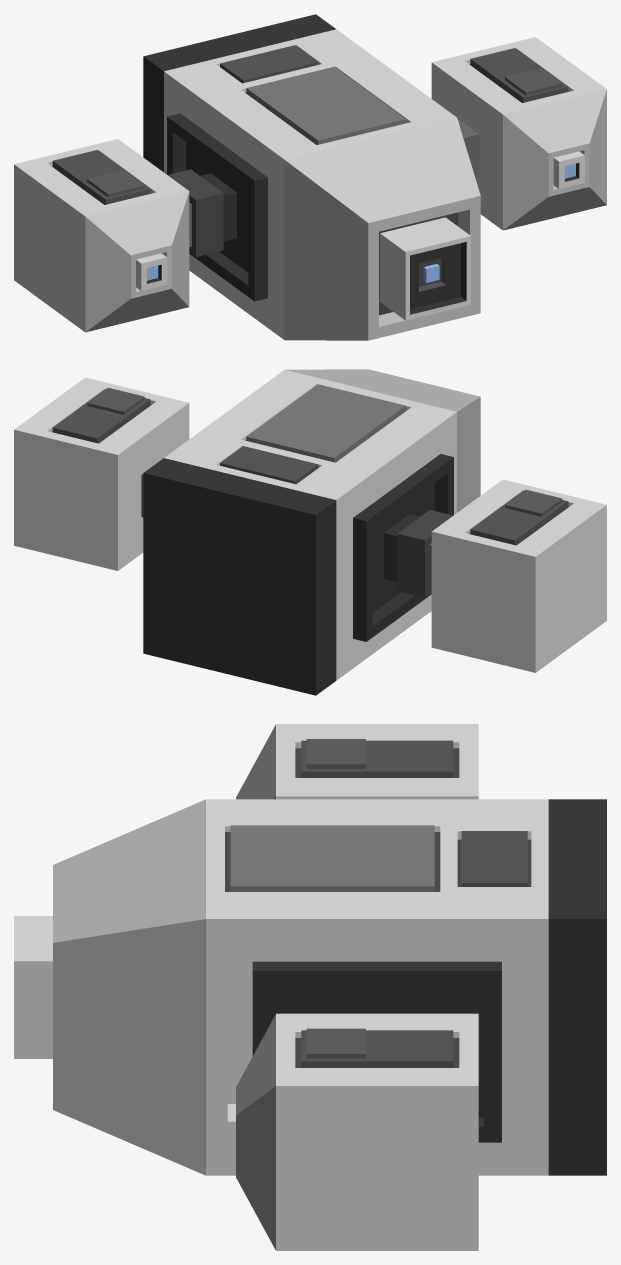
File: Drone.fbx
3 renders of one model, top to bottom at view 1: azimuth 30°, elevation 25°; view 2: azimuth 150°, elevation 25°; view 3: azimuth 270°, elevation 25°, orthographic. The views are drawn at different scales.
Visible parts, largest first — view 1: Drone; view 2: Drone; view 3: Drone.
Part boxes in pixels (x1,y1,x2,y2): Drone: (14,14,606,340); Drone: (14,369,606,695); Drone: (14,724,606,1250).
Size of the model in its own units: 0.427 by 0.1431 by 0.2958.
